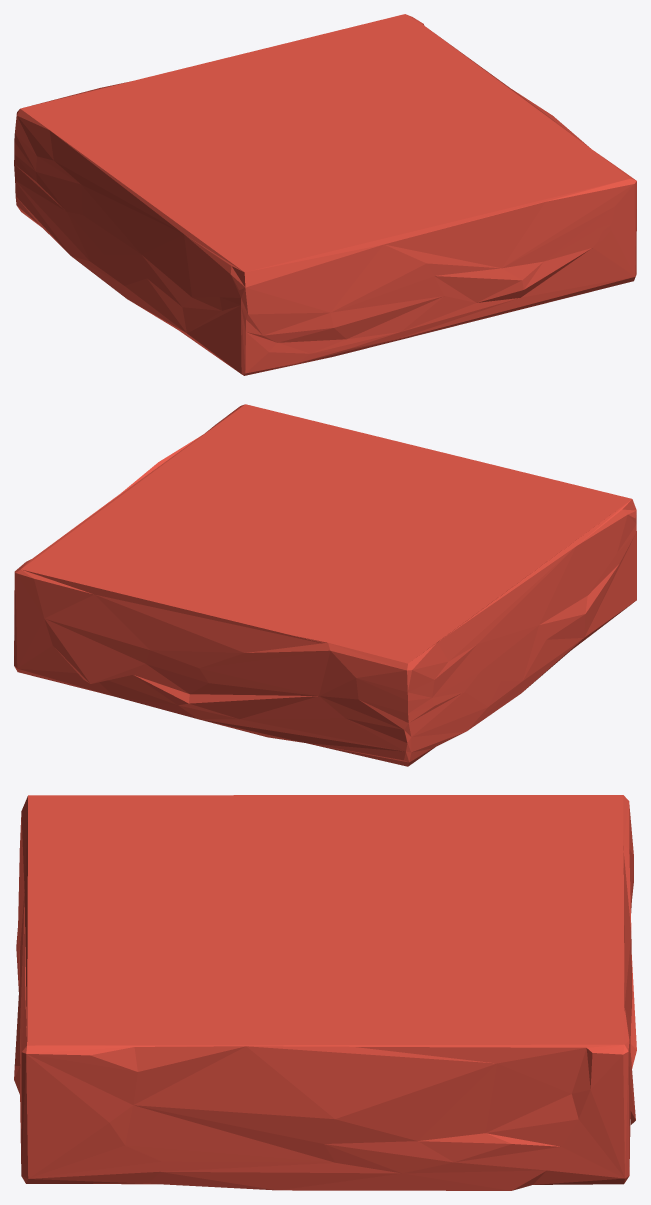
Rendered from SM_Greenscreen_Cube_Half_Big.fbx.
3 views of the same model, one above another, from view 1: azimuth 30°, elevation 25°; view 2: azimuth 150°, elevation 25°; view 3: azimuth 270°, elevation 25° (orthographic). The views are drawn at different scales.
Visible parts, largest first — view 1: SM_Greenscreen_Cube_Half_Big; view 2: SM_Greenscreen_Cube_Half_Big; view 3: SM_Greenscreen_Cube_Half_Big.
Part boxes in pixels (bbox=[...]): SM_Greenscreen_Cube_Half_Big: bbox=[14, 14, 636, 375]; SM_Greenscreen_Cube_Half_Big: bbox=[14, 404, 636, 766]; SM_Greenscreen_Cube_Half_Big: bbox=[14, 795, 636, 1190].
Bounding box in the file's own units: 204 × 203 × 53.43.
